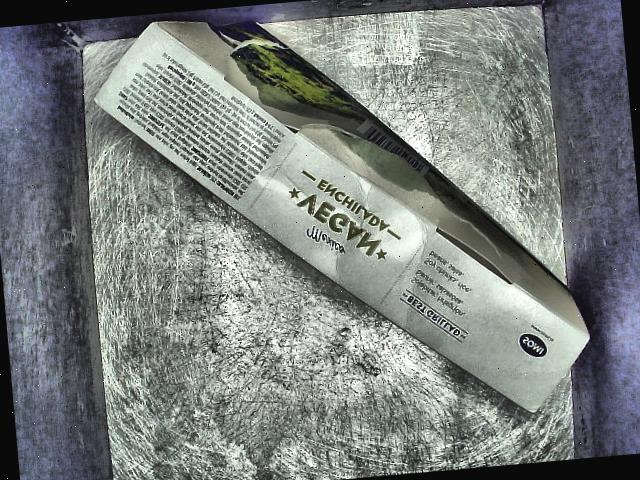Paper: (74, 0, 600, 453)
